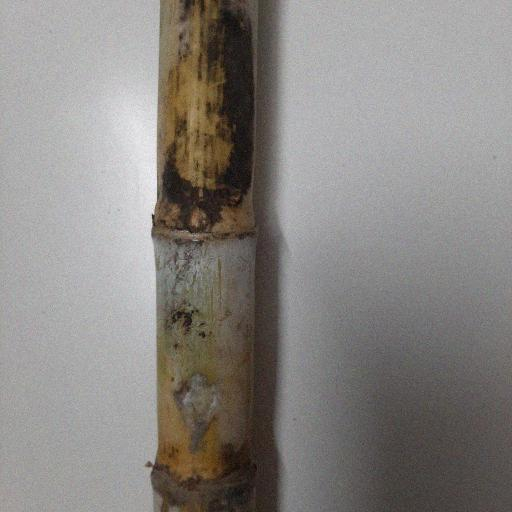Bud: (189, 208, 211, 235)
